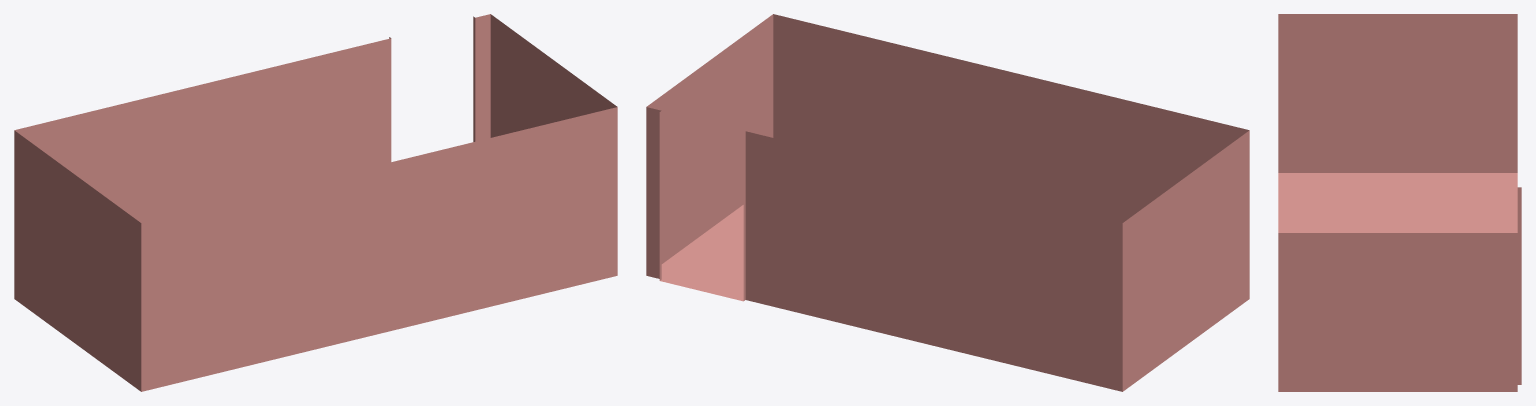
Rendered from rooms3_1.glb.
3 views of the same model, side by side, from view 1: azimuth 30°, elevation 25°; view 2: azimuth 150°, elevation 25°; view 3: azimuth 270°, elevation 25° (orthographic). The views are drawn at different scales.
Visible parts, largest first — view 1: Cube.022; view 2: Cube.022; view 3: Cube.022.
Boxes of the visible parts, x1,y1,x2,y2 form: Cube.022: [14, 14, 617, 391]; Cube.022: [646, 14, 1249, 391]; Cube.022: [1278, 14, 1521, 391].
Size of the model in its own units: 6.03 by 2.04 by 2.83.
